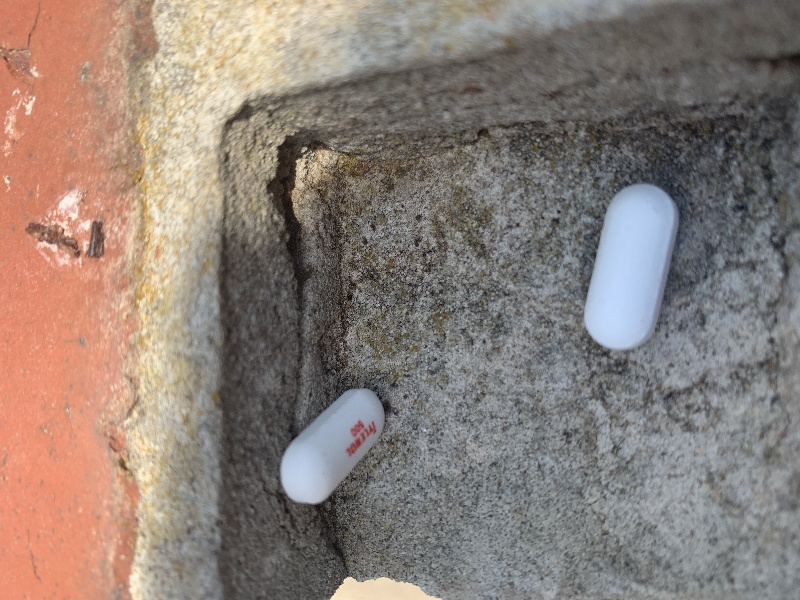Tylenol: (581, 177, 678, 352), (277, 387, 388, 507)
